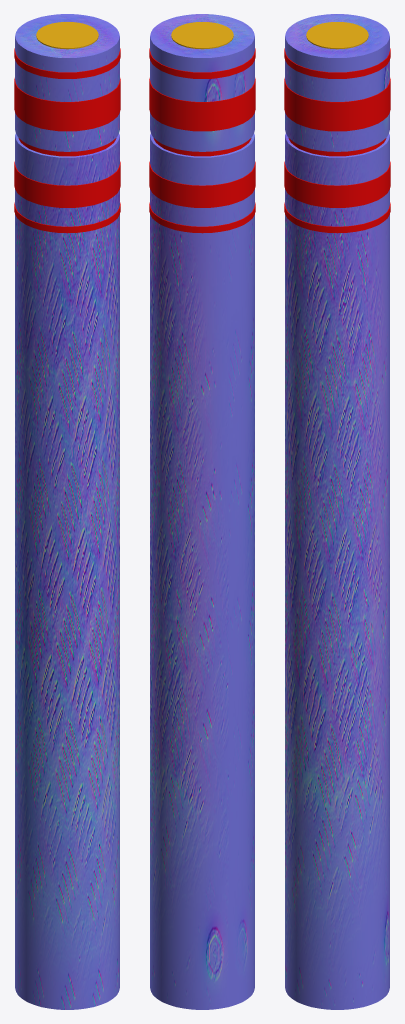
File: env_st_Socle_Statue.fbx
3 views of the same model, side by side, from view 1: azimuth 30°, elevation 25°; view 2: azimuth 210°, elevation 25°; view 3: azimuth 270°, elevation 25° (orthographic).
Visible parts, largest first — view 1: Cylinder130; view 2: Cylinder130; view 3: Cylinder130.
Boxes of the visible parts, x1,y1,x2,y2 form: Cylinder130: (14,14,120,1009); Cylinder130: (149,14,255,1009); Cylinder130: (284,14,390,1009).
Size of the model in its own units: 1324 by 13128 by 1331.
